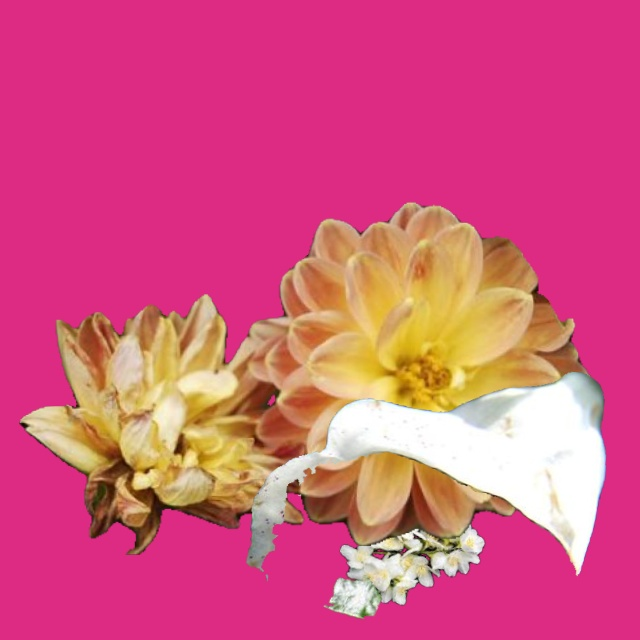dahlia: (19, 202, 591, 554)
foxglove: (246, 372, 605, 580)
jasmine: (340, 478, 484, 604)
passion flower: (324, 575, 381, 618)
